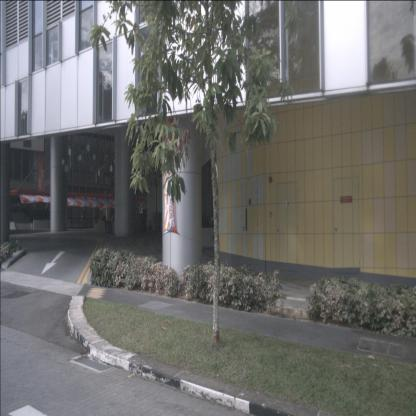human-pedestrian-adult: (109, 210, 115, 234)
